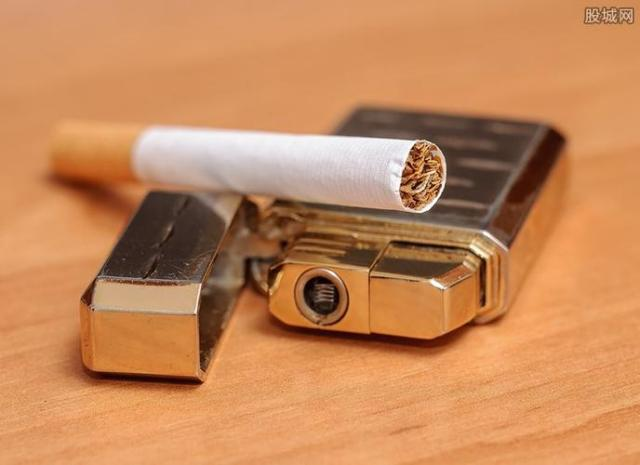Cigarette: (51, 119, 449, 214)
